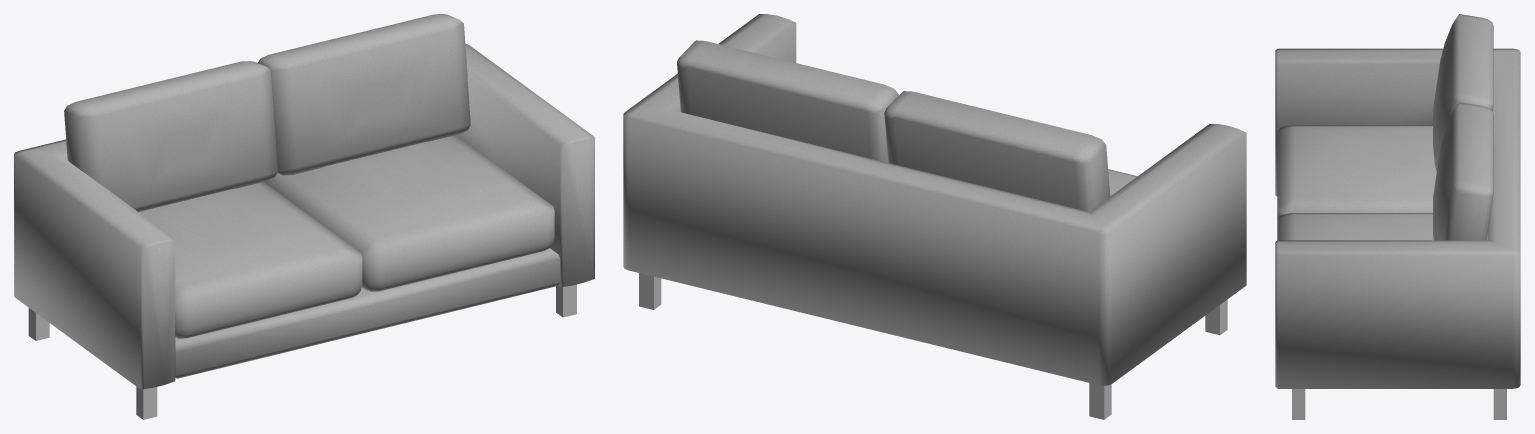
The model's file is Couch_Big.FBX.
The picture shows the model from 3 angles, left to right: view 1: azimuth 30°, elevation 25°; view 2: azimuth 150°, elevation 25°; view 3: azimuth 270°, elevation 25°; orthographic projection. The views are drawn at different scales.
Visible parts, largest first — view 1: Couch_Big; view 2: Couch_Big; view 3: Couch_Big.
Boxes of the visible parts, bbox=[...] form: Couch_Big: bbox=[14, 14, 594, 419]; Couch_Big: bbox=[623, 14, 1246, 419]; Couch_Big: bbox=[1275, 14, 1520, 419].
Bounding box in the file's own units: 2.6 × 1.3 × 1.3.
